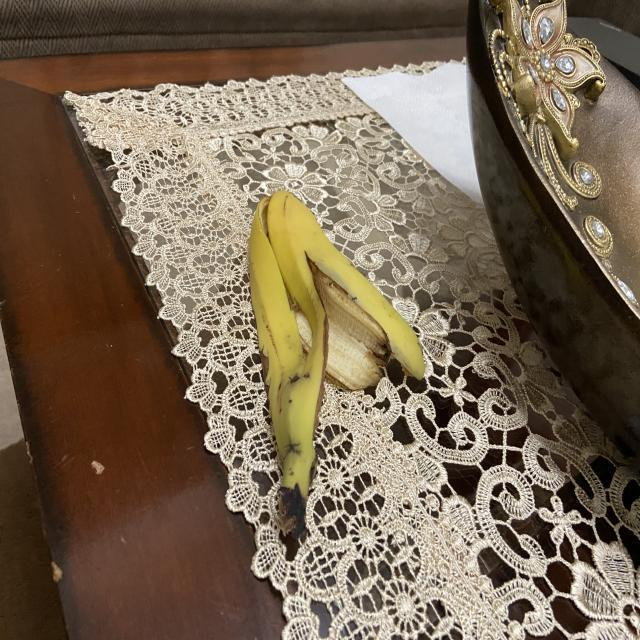banana-peel: (246, 188, 425, 536)
